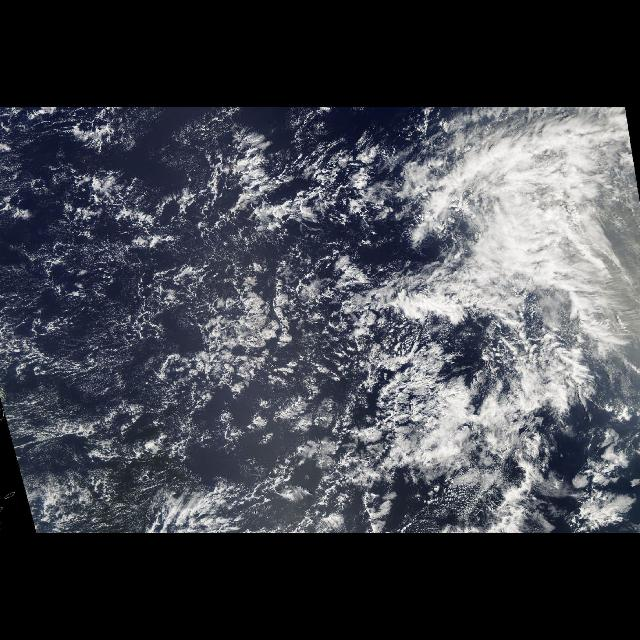Gravel: (78, 246, 198, 364)
